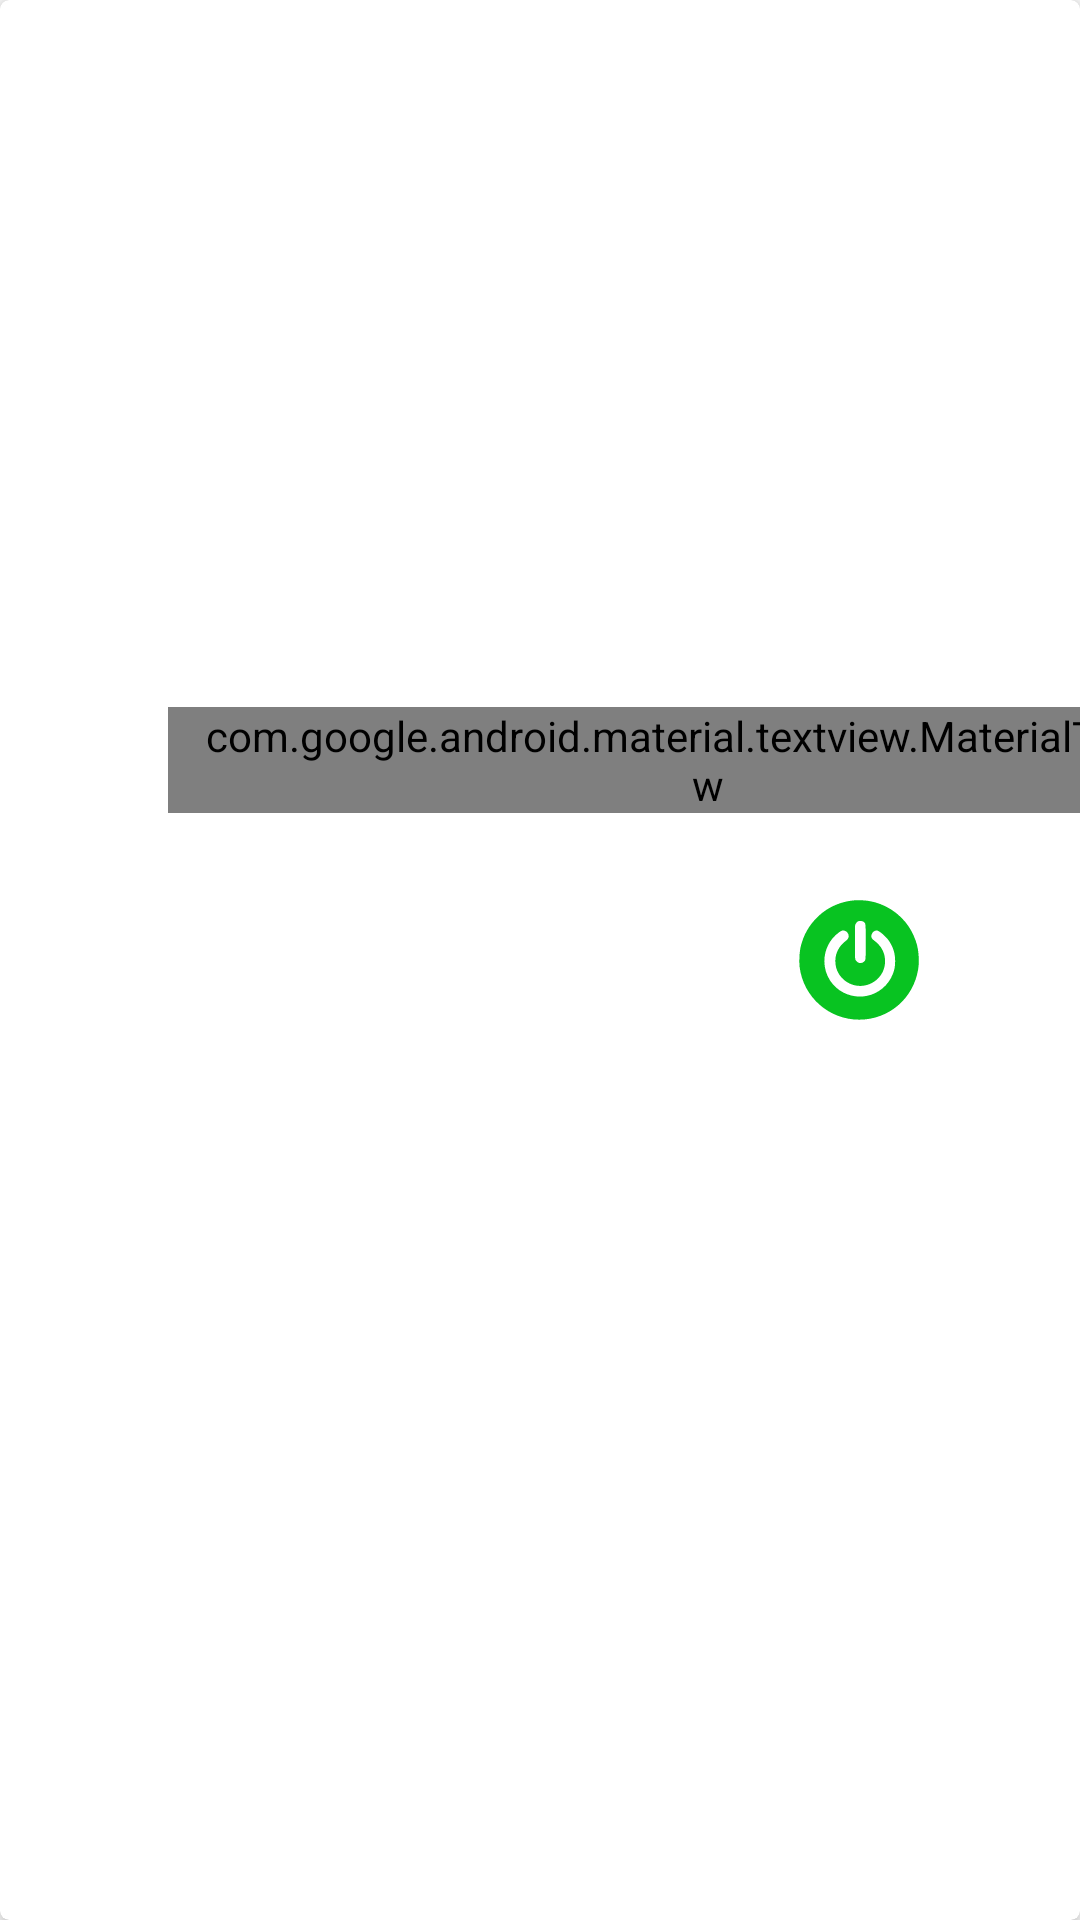

Screen size 1080 × 1920. Icon name, then its center in pixels as point (x, y):
powercircle: point (859, 960)
